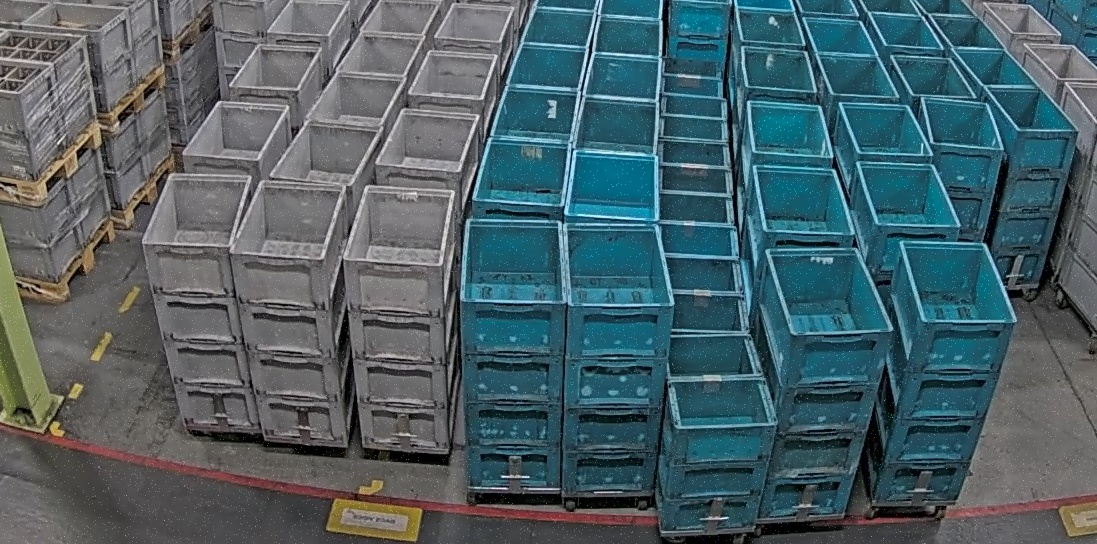4G: (229, 177, 356, 444), (140, 172, 263, 431), (341, 184, 458, 452)
B4: (864, 240, 1019, 503), (752, 246, 894, 521), (559, 223, 678, 495), (457, 217, 570, 488), (916, 96, 1006, 242)
B8: (653, 333, 780, 533)
